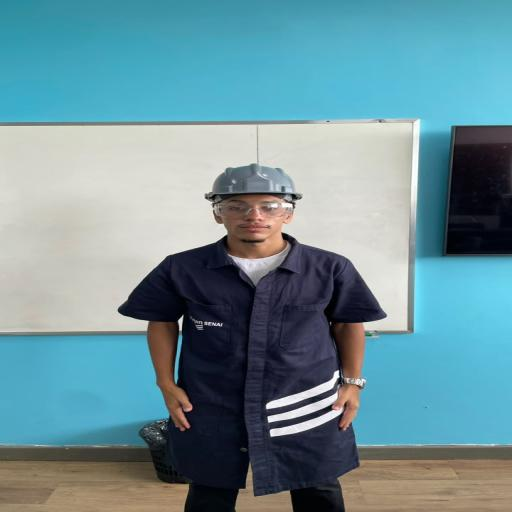CAPACETE: (204, 163, 303, 203)
OCULOS: (212, 202, 294, 218)
